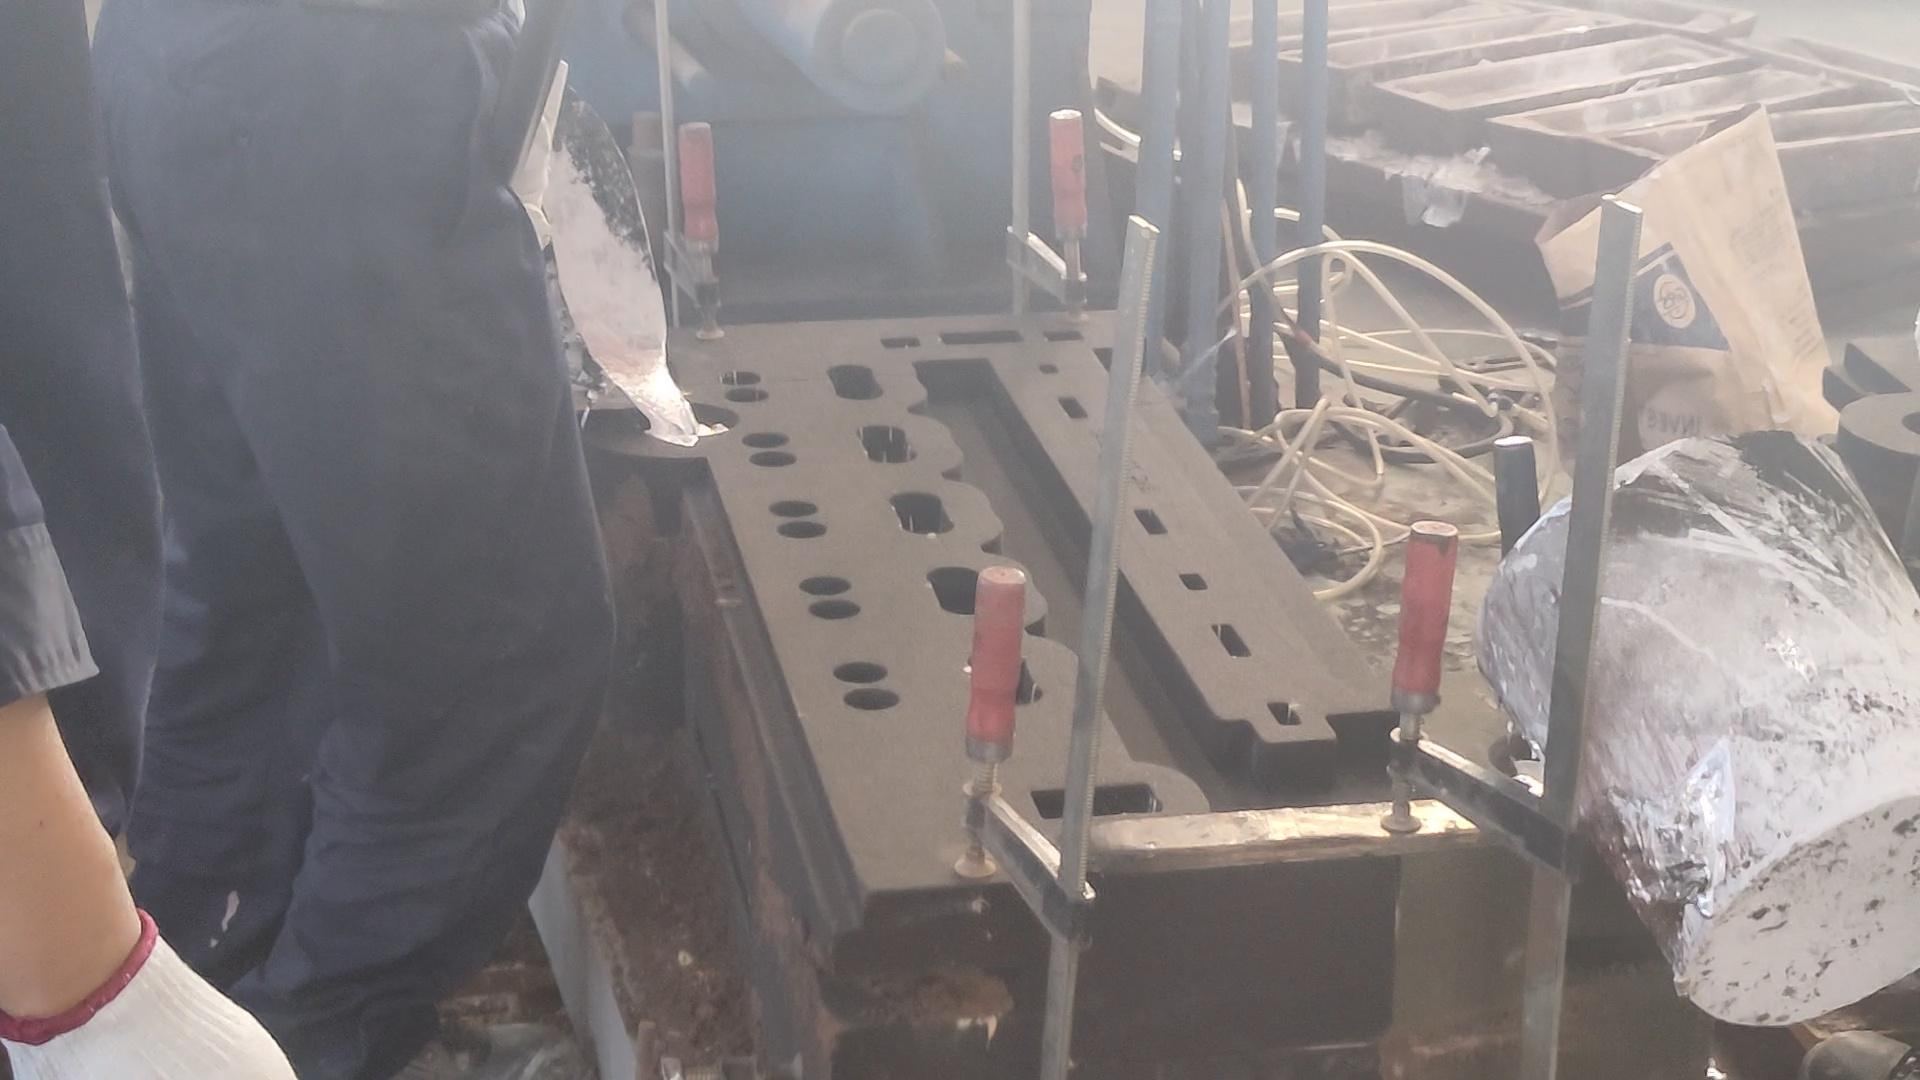pouring hole: (1489, 732, 1578, 789), (642, 404, 738, 436), (1898, 407, 1920, 436)
